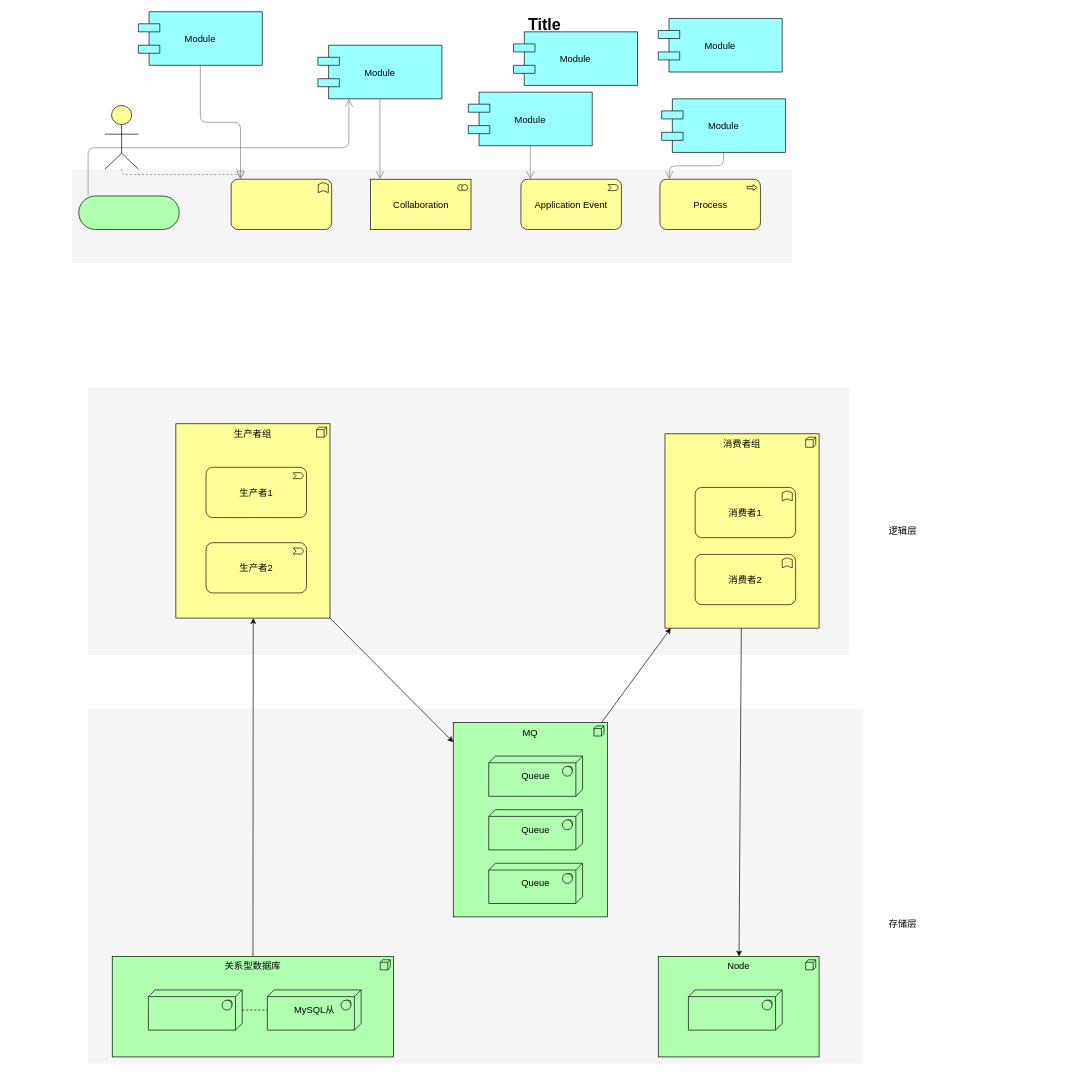
This 1088x1075 diagram has some shape labels left out. The centre of each missing label's shape, as x and y in pixels:
"ElasticSearch" belongs at point 735,1009.
"Function" belongs at point 281,204.
"MySQL主" belongs at point 195,1009.
"Service" belongs at point 128,212.
